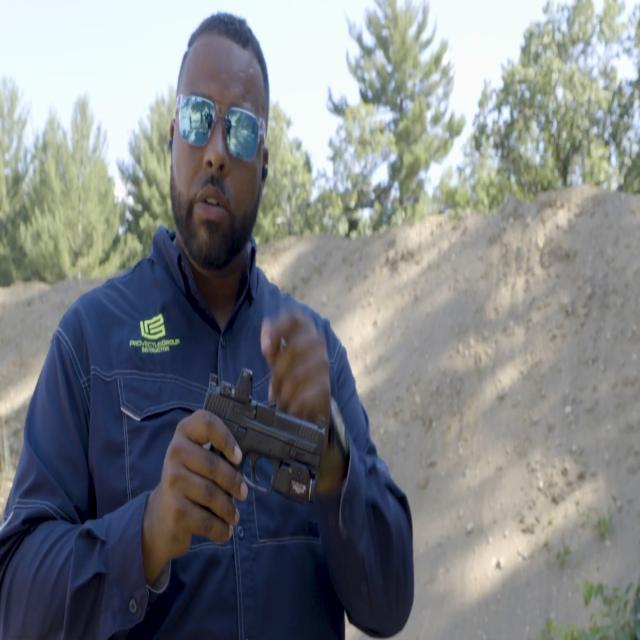Gun_Holder: (158, 372, 322, 534)
Person: (17, 30, 404, 640)
